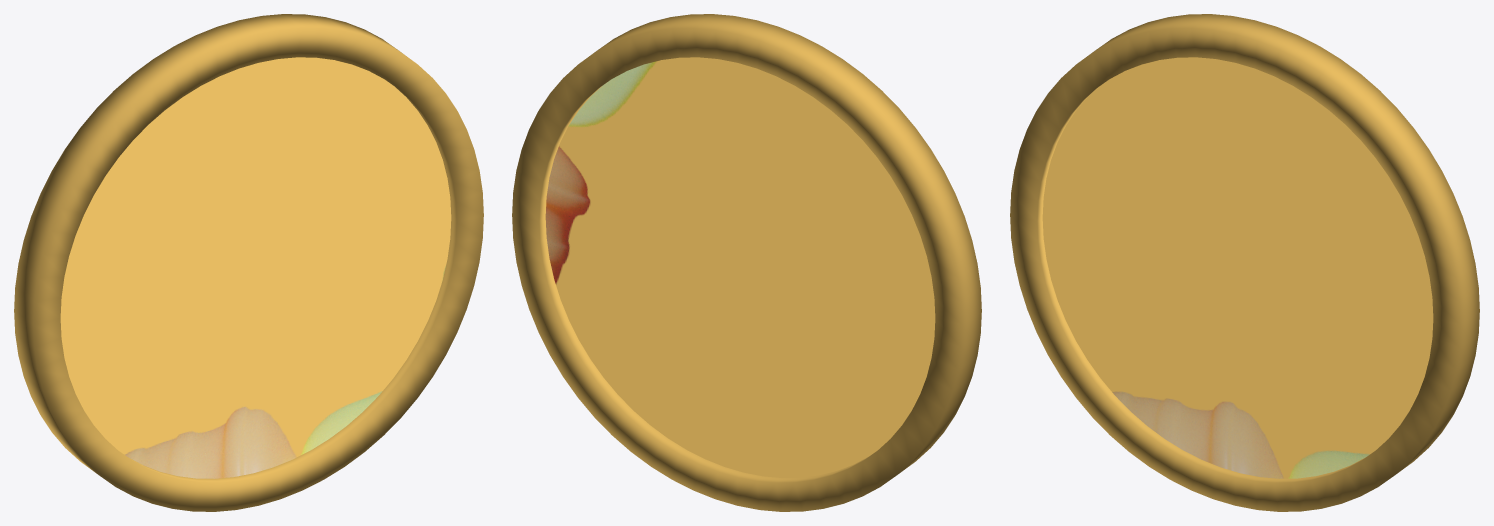
File: Coin.fbx
The picture shows the model from 3 angles, left to right: view 1: azimuth 30°, elevation 25°; view 2: azimuth 150°, elevation 25°; view 3: azimuth 330°, elevation 25°; orthographic projection.
Visible parts, largest first — view 1: Carrot; view 2: Carrot; view 3: Carrot.
Boxes of the visible parts, <box> form: Carrot: <box>14,14,483,511</box>; Carrot: <box>512,14,981,511</box>; Carrot: <box>1010,14,1479,511</box>.
Bounding box in the file's own units: 48.85 × 48.85 × 3.63.
Materials: 2 (1 with a texture image).
